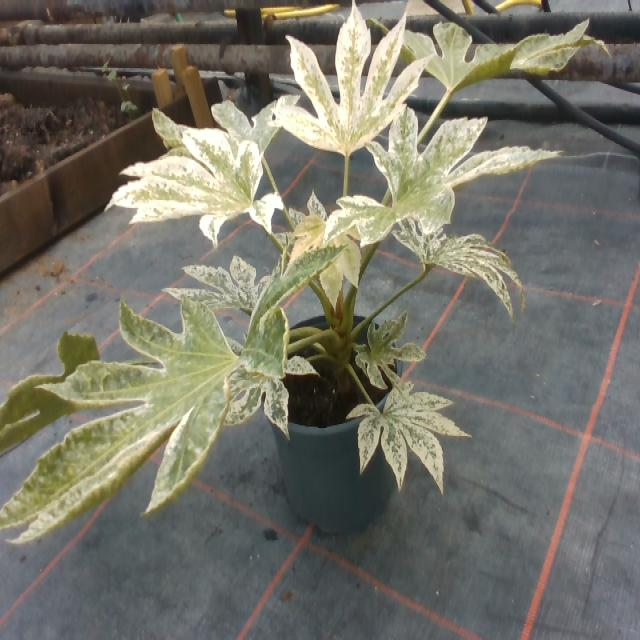Fatsia-japonica: (0, 263, 314, 590), (319, 104, 520, 258), (380, 7, 599, 122), (0, 294, 156, 452), (279, 4, 416, 171), (135, 128, 275, 242), (336, 378, 466, 485), (399, 201, 512, 307), (137, 92, 292, 162), (165, 248, 299, 326), (284, 192, 372, 301), (227, 336, 312, 447), (342, 316, 432, 388)
